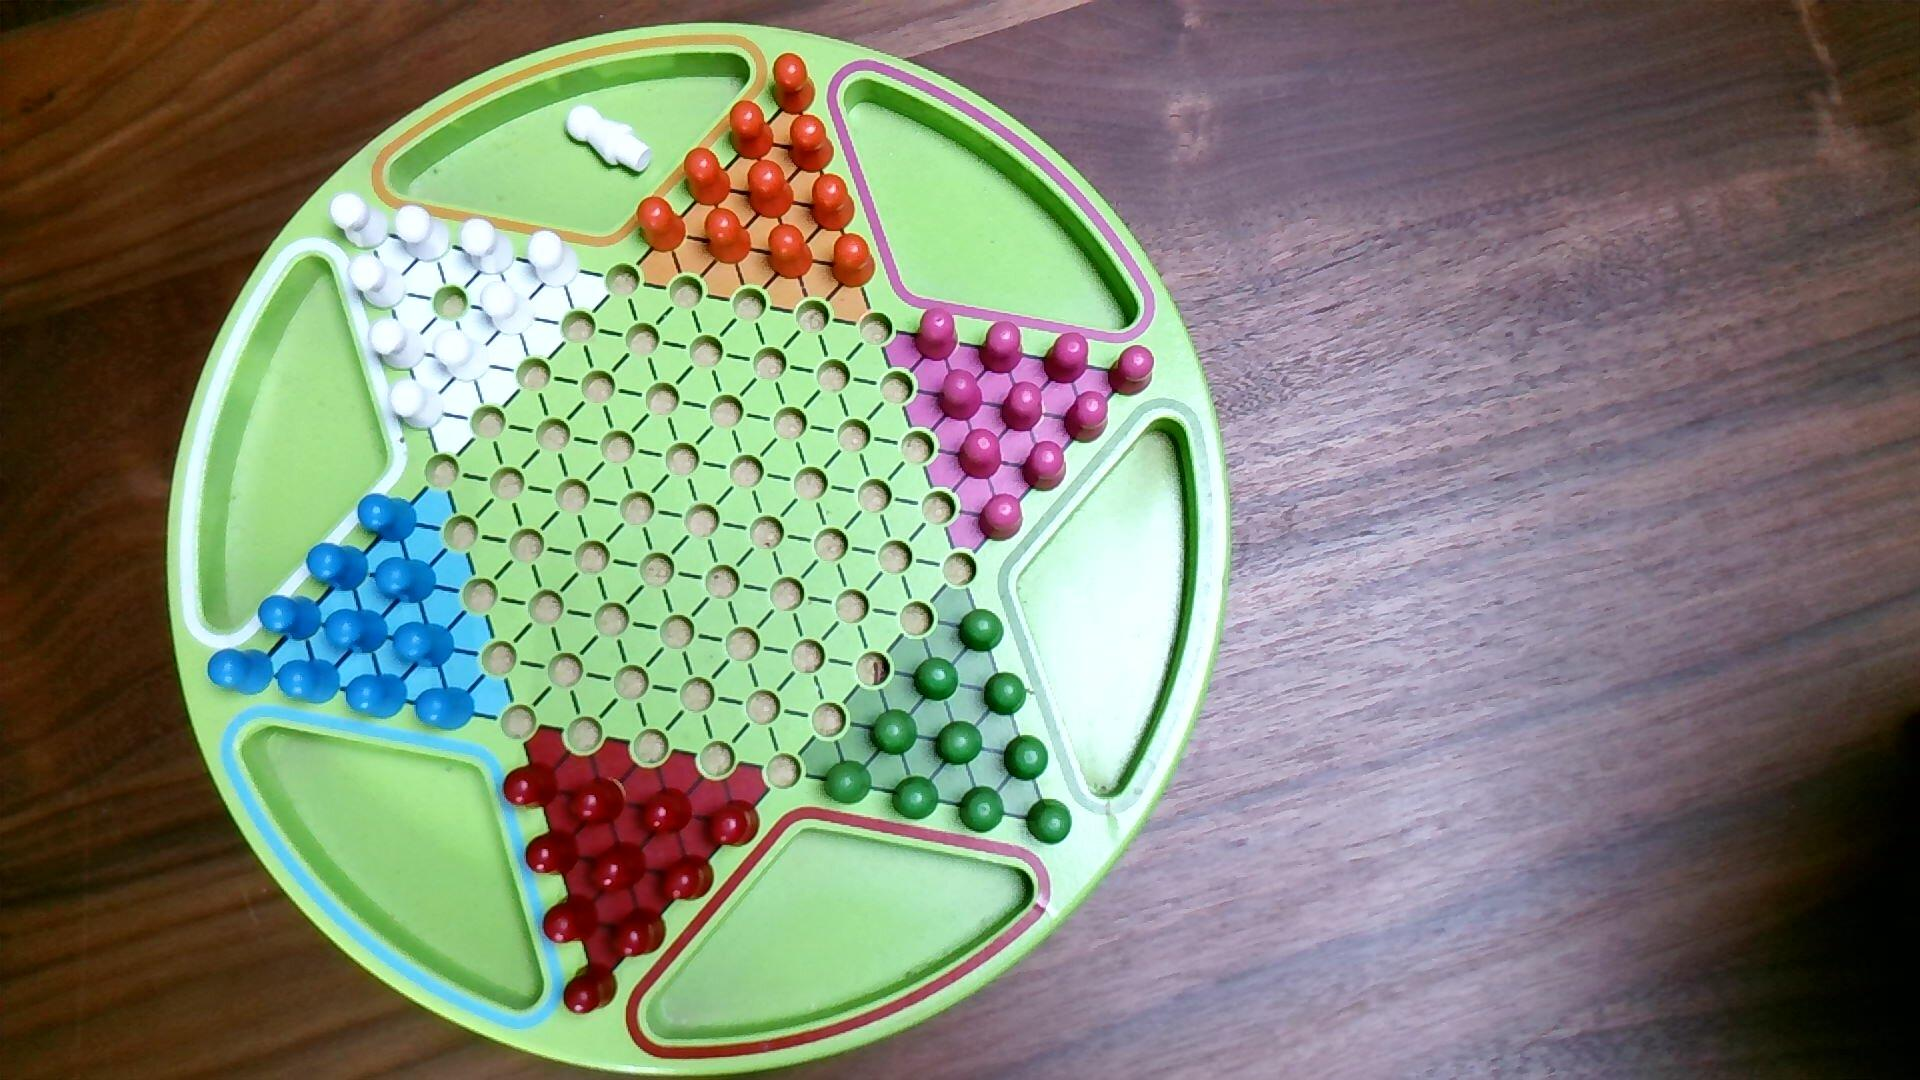B: (206, 646, 276, 699), (257, 592, 324, 644), (324, 607, 392, 658), (306, 542, 371, 595), (392, 621, 458, 673), (356, 493, 419, 546), (375, 556, 439, 607), (277, 657, 343, 705), (345, 673, 409, 723), (414, 684, 477, 735)
G: (823, 756, 876, 807), (869, 707, 920, 760), (934, 719, 986, 769), (957, 785, 1007, 836), (911, 654, 963, 704), (1002, 731, 1050, 783), (1025, 796, 1073, 847), (891, 775, 942, 823), (957, 607, 1007, 654), (982, 669, 1029, 716)
O: (682, 146, 735, 208), (636, 195, 688, 256), (746, 158, 796, 222), (767, 222, 818, 284), (704, 204, 753, 266), (771, 51, 818, 116), (728, 99, 775, 161), (790, 113, 837, 175), (811, 171, 857, 233), (831, 233, 878, 290)
R: (585, 836, 650, 895), (541, 890, 603, 948), (568, 774, 630, 831), (560, 961, 620, 1019), (609, 905, 669, 961), (657, 851, 717, 906), (524, 825, 585, 880), (636, 785, 696, 839), (704, 796, 764, 851), (500, 760, 560, 812)
R2: (975, 318, 1026, 378), (1039, 328, 1091, 386), (1105, 343, 1156, 400), (1018, 439, 1069, 495), (1062, 390, 1112, 446), (938, 367, 985, 425), (913, 306, 960, 363), (956, 427, 1004, 483), (998, 380, 1046, 435), (977, 493, 1026, 545)
W: (345, 251, 410, 313), (328, 190, 394, 251), (393, 203, 455, 266), (458, 216, 520, 277), (431, 326, 495, 385), (479, 278, 538, 338), (525, 229, 583, 289), (368, 316, 427, 373), (389, 376, 447, 433)
